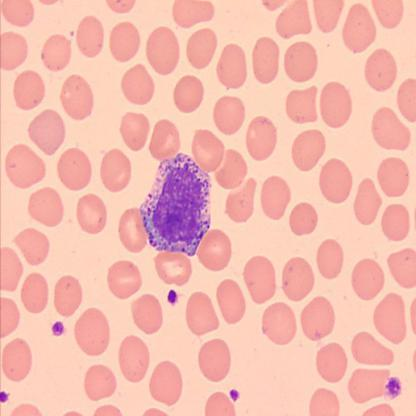Myelocyte: (141, 150, 210, 259)
